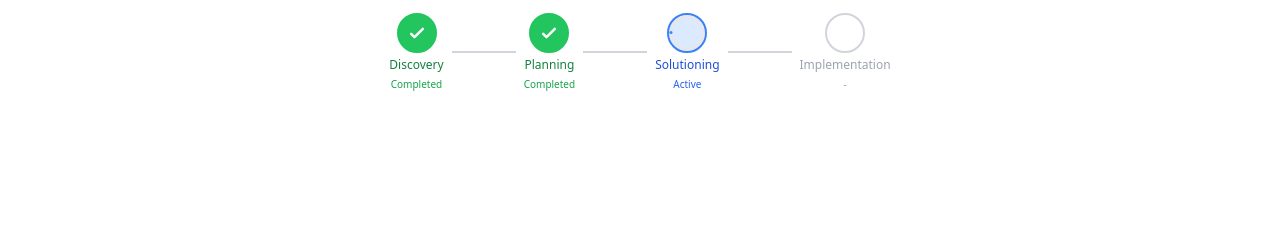
WorkflowVisualizer › artifact filtering › filters artifacts by phase workflow types
This screenshot has width=1280, height=227.
Click on Planning phase to expand
Click the button named "planning phase".
click(549, 32)  # box [529,12,569,52]
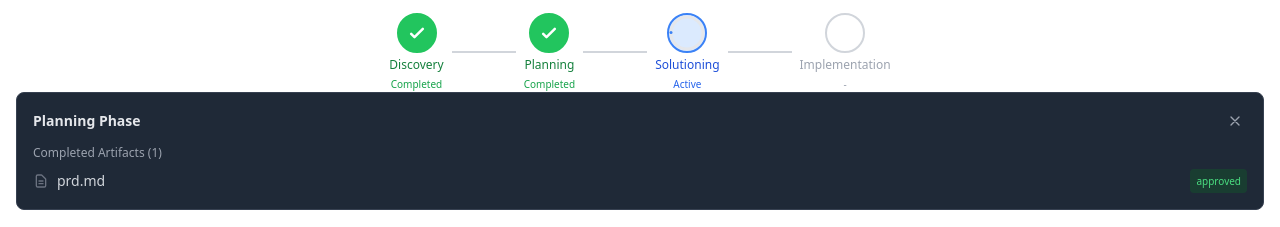
Check: the button "prd.md" is shown, box [57,171,105,191]
